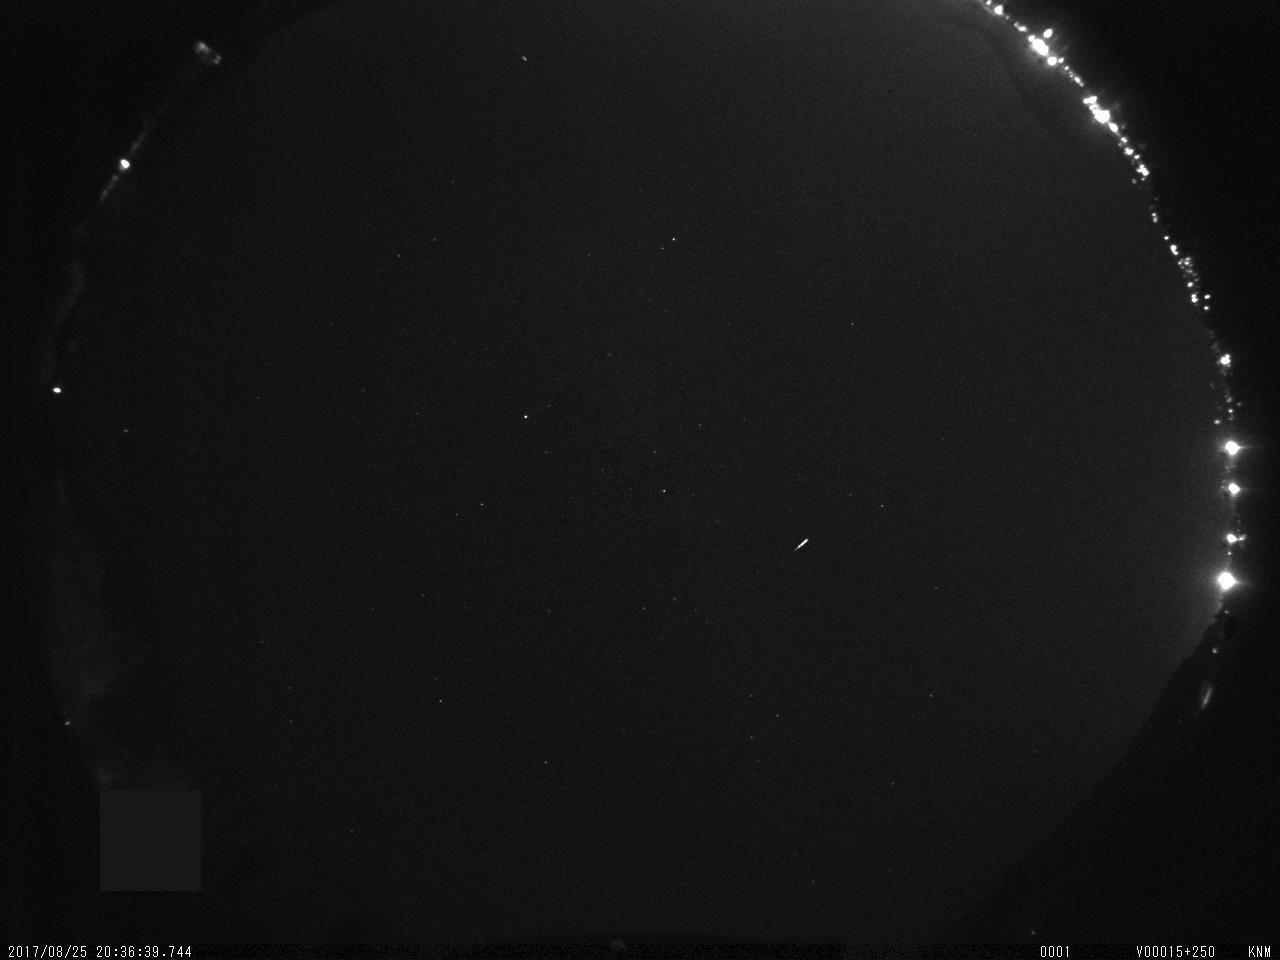Meteor: (791, 534, 810, 556)
